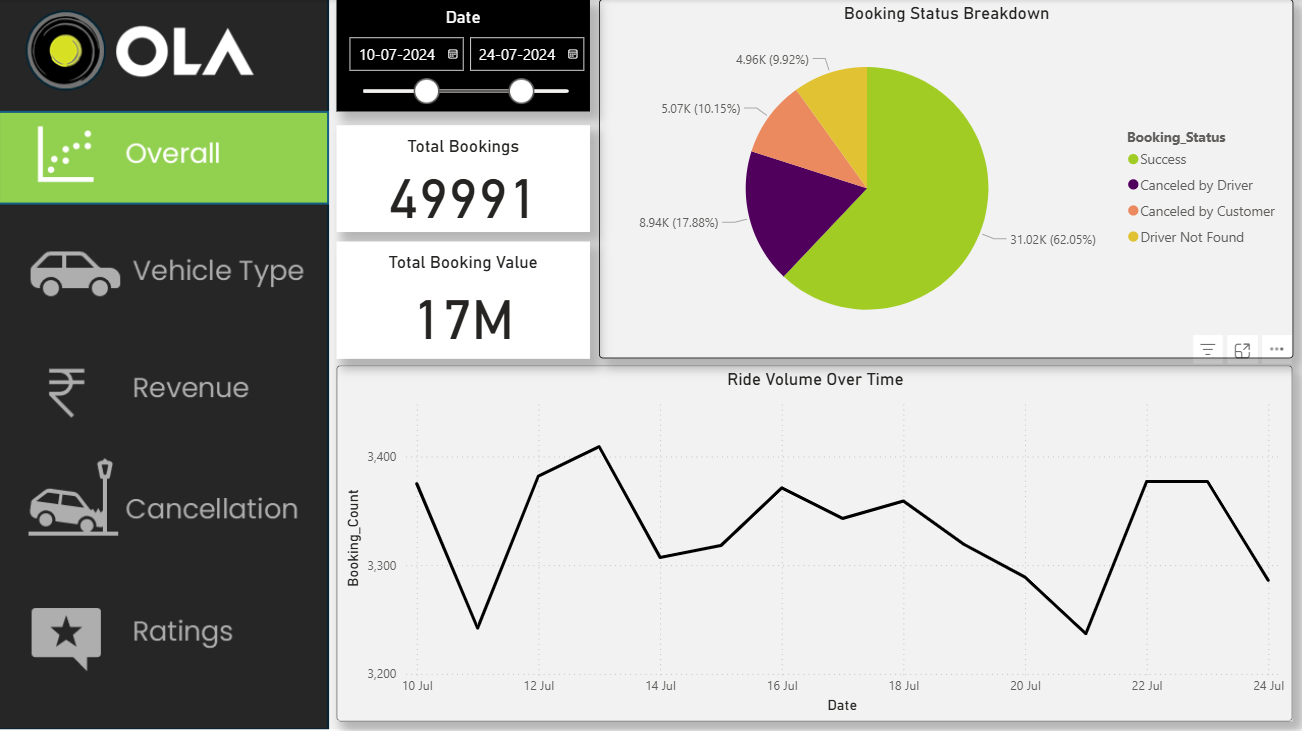

This screenshot's page, from the dashboard's own definition file:
{"tool":"powerbi","page":{"name":"Overall","canvas":[1280,720],"ordinal":0},"visuals":[{"type":"actionButton","box":[0,217.2,323.9,90.8],"z":0},{"type":"actionButton","box":[0,342.3,323.9,92],"z":1000},{"type":"actionButton","box":[0,450.3,323.9,92],"z":2000},{"type":"actionButton","box":[0,580.4,323.9,92],"z":3000},{"type":"actionButton","box":[0,110.4,323.9,92],"z":4000},{"type":"lineChart","title":"Ride Volume Over Time","fields":{"Y":["CountNonNull(July.Booking_ID)"],"Category":["July.Date"]},"box":[331.3,359.5,938.7,349.7],"z":5000},{"type":"pieChart","title":"Booking Status Breakdown","fields":{"Category":["July.Booking_Status"],"Y":["CountNonNull(July.Booking_ID)"]},"box":[588.8,0,681.2,352.5],"z":6000},{"type":"slicer","title":"Date","fields":{"Values":["July.Date"]},"box":[331.2,0,248.8,110],"z":7000},{"type":"card","title":"Total Bookings","fields":{"Values":["CountNonNull(July.Booking_ID)"]},"box":[331.2,123.8,248.8,105],"z":8000},{"type":"card","title":"Total Booking Value","fields":{"Values":["Sum(July.Booking_Value)"]},"box":[331.2,237.5,248.8,115],"z":9000}]}

Visuals, with their boxes in screenshot pixels (x1, y1, x2, y2), scaled from the page's 1280x720 canvas onto the 1302x731 screenshot:
actionButton: bbox(0, 221, 329, 313)
actionButton: bbox(0, 348, 329, 441)
actionButton: bbox(0, 457, 329, 551)
actionButton: bbox(0, 589, 329, 683)
actionButton: bbox(0, 112, 329, 205)
"Ride Volume Over Time" lineChart: bbox(337, 365, 1292, 720)
"Booking Status Breakdown" pieChart: bbox(599, 0, 1292, 358)
"Date" slicer: bbox(337, 0, 590, 112)
"Total Bookings" card: bbox(337, 126, 590, 232)
"Total Booking Value" card: bbox(337, 241, 590, 358)
